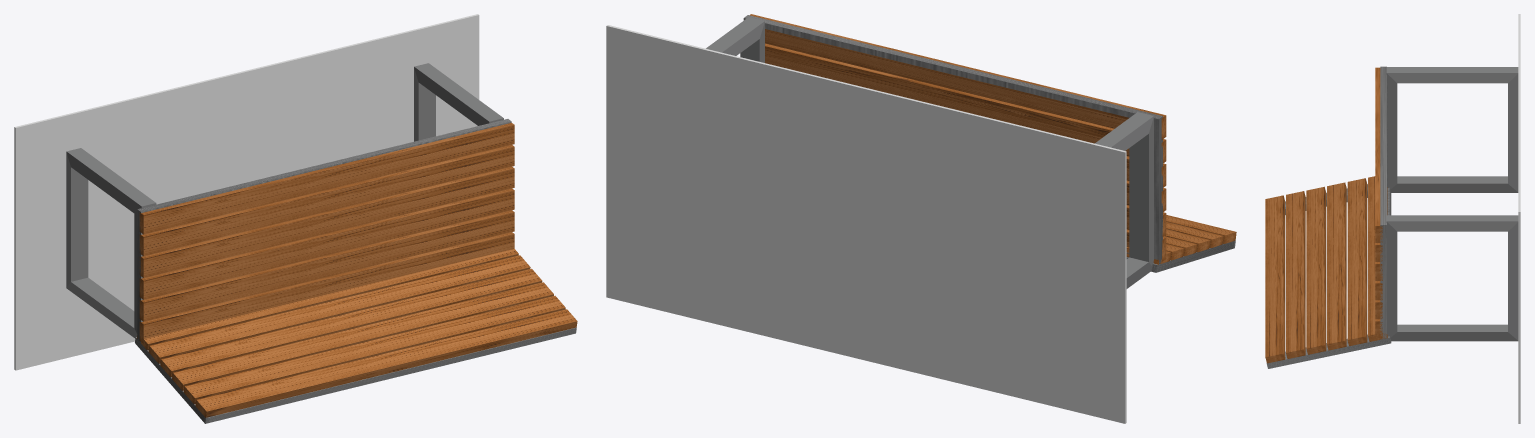
File: скамейка_детская_площадка_с_подложкой.glb
3 renders of one model, left to right at view 1: azimuth 30°, elevation 25°; view 2: azimuth 150°, elevation 25°; view 3: azimuth 270°, elevation 25°, orthographic. The views are drawn at different scales.
Parts seen in each view (by area): view 1: Куб.013, Куб; view 2: Куб, Куб.013; view 3: Куб.013, Куб.
Part boxes in pixels (box(x1,y1,x2,y2)): Куб.013: box(66, 63, 577, 423); Куб: box(14, 14, 479, 370); Куб: box(606, 25, 1126, 423); Куб.013: box(706, 14, 1236, 288); Куб.013: box(1265, 66, 1518, 368); Куб: box(1518, 14, 1520, 423).
Size of the model in its own units: 4 by 2 by 2.18.
2 materials, 2 textured.
